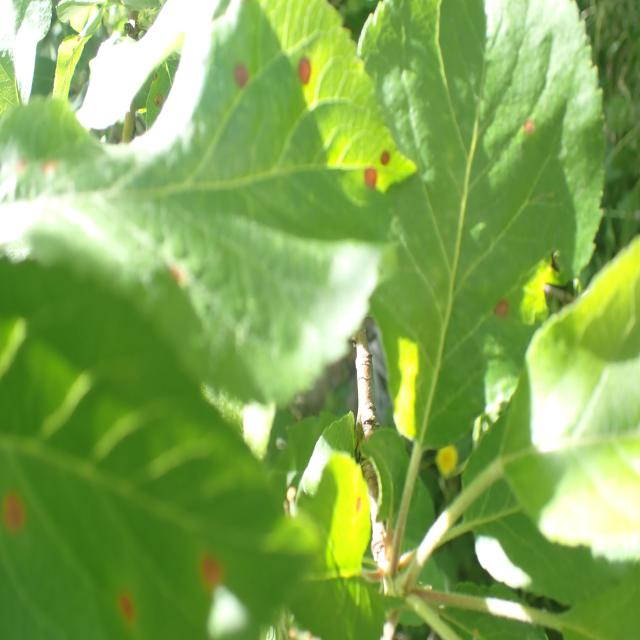Black Rot: (287, 36, 330, 108), (226, 38, 260, 114), (346, 148, 380, 204), (346, 483, 372, 534), (145, 86, 174, 131), (480, 300, 520, 332), (380, 141, 396, 180)
